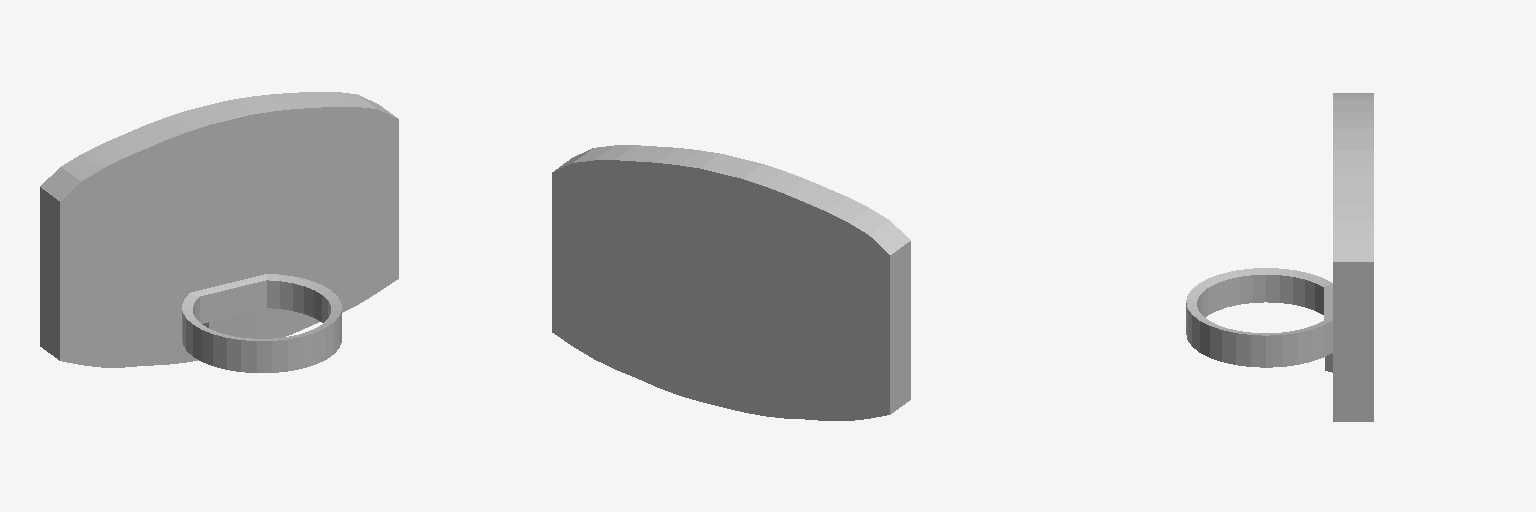
Rendered from BasketBallHoop.obj.
3 views of the same model, side by side, from view 1: azimuth 30°, elevation 25°; view 2: azimuth 150°, elevation 25°; view 3: azimuth 270°, elevation 25° (orthographic).
Parts seen in each view (by area): view 1: Cylinder.001_Cylinder.002; view 2: Cylinder.001_Cylinder.002; view 3: Cylinder.001_Cylinder.002.
Part boxes in pixels (left/top/right/bottom): Cylinder.001_Cylinder.002: left=40, top=92, right=398, bottom=372; Cylinder.001_Cylinder.002: left=552, top=145, right=910, bottom=420; Cylinder.001_Cylinder.002: left=1186, top=93, right=1373, bottom=421.
Bounding box in the file's own units: 4.94 × 3.25 × 2.37.